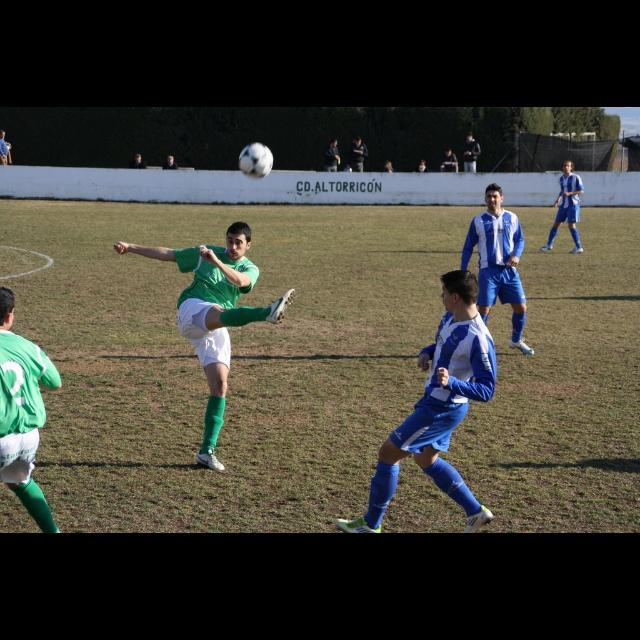Football: (234, 138, 276, 180)
